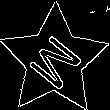M_SE: (22, 27, 87, 94)
